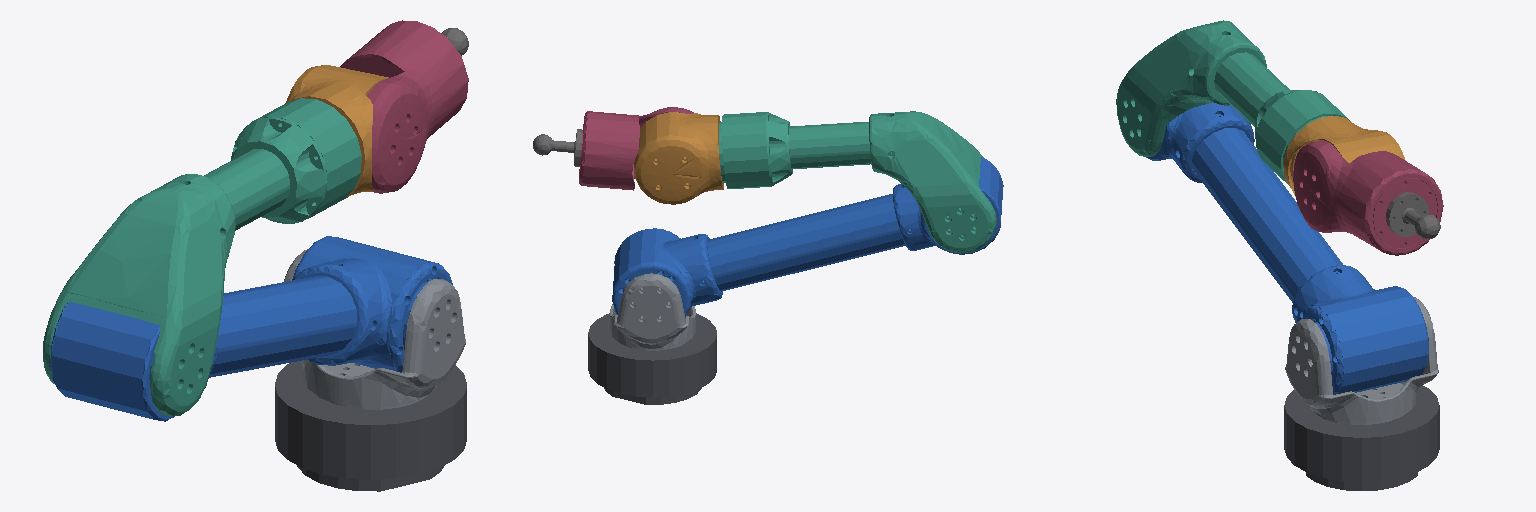
The robot description file, URDF, robot "hw_arm":
<?xml version='1.0' encoding='utf-8'?>
<robot name="hw_arm">
  
  
  
  
  <link name="world">
  </link>
  <joint name="world_joint" type="fixed">
    <origin rpy="3.141592653589793 0.0 0.0" xyz="0.0 0.0 0.03" />
    <parent link="world" />
    <child link="base_link" />
  </joint>
  <link name="base_link">
    <visual name="base_link_visual0">
      <origin rpy="0.0 0.0 0.0" xyz="-0.13454588 0.012391859 0.029617159" />
      <geometry>
        <mesh filename="assets/base_link.stl" scale="0.001 0.001 0.001" />
      </geometry>
      <material name="base_link_visual0_material">
        <color rgba="0.35 0.36 0.38 1.0" />
      </material>
    </visual>
    <collision name="base_link_collision">
      <origin rpy="0.0 0.0 0.0" xyz="-0.13454588 0.012391859 0.029617159" />
      <geometry>
        <mesh filename="assets/base_link.stl" scale="0.001 0.001 0.001" />
      </geometry>
    </collision>
    <inertial>
      <origin rpy="0.0 0.0 0.0" xyz="-3.0284266e-07 -5.2644134e-07 -0.00044772025" />
      <mass value="1.372" />
      <inertia ixx="0.0014043106" ixy="1.4459024e-10" ixz="-8.6054354e-09" iyy="0.0014147065" iyz="-1.5054873e-08" izz="0.0022748573" />
    </inertial>
  </link>
  <joint name="joint1" type="revolute">
    <origin rpy="3.1415927 0.0 0.0" xyz="-0.0011873569 -0.0022000401 -0.0246" />
    <parent link="base_link" />
    <child link="link1" />
    <axis xyz="0.0 0.0 1.0" />
    <limit effort="40.0" lower="-3.141593" upper="3.141593" velocity="16.755" />
  </joint>
  <link name="link1">
    <visual name="link1_visual0">
      <origin rpy="-3.1415927 0.0 0.0" xyz="-0.13335853 -0.014591899 -0.054217159" />
      <geometry>
        <mesh filename="assets/link1.stl" scale="0.001 0.001 0.001" />
      </geometry>
      <material name="link1_visual0_material">
        <color rgba="0.55 0.57 0.6 1.0" />
      </material>
    </visual>
    <collision name="link1_collision">
      <origin rpy="-3.1415927 0.0 0.0" xyz="-0.13335853 -0.014591899 -0.054217159" />
      <geometry>
        <mesh filename="assets/link1.stl" scale="0.001 0.001 0.001" />
      </geometry>
    </collision>
    <inertial>
      <origin rpy="0.0 0.0 0.0" xyz="0.00033850712 -0.0012490216 0.025807643" />
      <mass value="0.097" />
      <inertia ixx="0.0001679022359" ixy="3.991245739e-05" ixz="8.582990606e-07" iyy="0.0001151949678" iyz="-2.909528997e-06" izz="0.0001750320184" />
    </inertial>
  </link>
  <joint name="joint2" type="revolute">
    <origin rpy="-1.5707963 0.0 0.49489913" xyz="-0.016195552 0.030008567 0.053" />
    <parent link="link1" />
    <child link="link2" />
    <axis xyz="0.0 0.0 1.0" />
    <limit effort="40.0" lower="-0.036607" upper="3.138307" velocity="16.755" />
  </joint>
  <link name="link2">
    <visual name="link2_visual0">
      <origin rpy="-1.5707963 0.49489913 0.0" xyz="-0.12428804 0.10721716 0.016396569" />
      <geometry>
        <mesh filename="assets/link2.stl" scale="0.001 0.001 0.001" />
      </geometry>
      <material name="link2_visual0_material">
        <color rgba="0.24 0.45 0.75 1.0" />
      </material>
    </visual>
    <collision name="link2_collision">
      <origin rpy="-1.5707963 0.49489913 0.0" xyz="-0.12428804 0.10721716 0.016396569" />
      <geometry>
        <mesh filename="assets/link2.stl" scale="0.001 0.001 0.001" />
      </geometry>
    </collision>
    <inertial>
      <origin rpy="0.0 0.0 0.0" xyz="-0.11708571 -0.033820001 -0.036677914" />
      <mass value="1.4285" />
      <inertia ixx="0.003288932024" ixy="-0.007548294498" ixz="-0.0004591792632" iyy="0.02724343856" iyz="-0.0001321617115" izz="0.02923142669" />
    </inertial>
  </link>
  <joint name="joint3" type="revolute">
    <origin rpy="-3.1415927 0.0 0.0" xyz="-0.28822853 -0.083212459 -0.0716" />
    <parent link="link2" />
    <child link="link3" />
    <axis xyz="0.0 0.0 1.0" />
    <limit effort="27.0" lower="-0.024407" upper="3.071307" velocity="5.4454" />
  </joint>
  <link name="link3">
    <visual name="link3_visual0">
      <origin rpy="1.5707963 -0.49489913 0.0" xyz="0.16394049 -0.19042962 -0.087996569" />
      <geometry>
        <mesh filename="assets/link3.stl" scale="0.001 0.001 0.001" />
      </geometry>
      <material name="link3_visual0_material">
        <color rgba="0.3 0.62 0.55 1.0" />
      </material>
    </visual>
    <collision name="link3_collision">
      <origin rpy="1.5707963 -0.49489913 0.0" xyz="0.16394049 -0.19042962 -0.087996569" />
      <geometry>
        <mesh filename="assets/link3.stl" scale="0.001 0.001 0.001" />
      </geometry>
    </collision>
    <inertial>
      <origin rpy="0.0 0.0 0.0" xyz="0.14404661 0.046456784 -0.035088571" />
      <mass value="0.4975" />
      <inertia ixx="0.0005181144922" ixy="-0.0004151674602" ixz="-1.560368381e-05" iyy="0.003645252803" iyz="-8.446874159e-06" izz="0.003693332489" />
    </inertial>
  </link>
  <joint name="joint4" type="revolute">
    <origin rpy="1.5707963 -1.4195253 1.4884341" xyz="0.22464921 0.049686746 -0.03495" />
    <parent link="link3" />
    <child link="link4" />
    <axis xyz="0.0 0.0 1.0" />
    <limit effort="7.0" lower="-3.387107" upper="0.561107" velocity="20.944" />
  </joint>
  <link name="link4">
    <visual name="link4_visual0">
      <origin rpy="-1.3987074 -1.0696523 0.0" xyz="-0.089255048 0.23351323 -0.04074877" />
      <geometry>
        <mesh filename="assets/link4.stl" scale="0.001 0.001 0.001" />
      </geometry>
      <material name="link4_visual0_material">
        <color rgba="0.75 0.55 0.3 1.0" />
      </material>
    </visual>
    <collision name="link4_collision">
      <origin rpy="-1.3987074 -1.0696523 0.0" xyz="-0.089255048 0.23351323 -0.04074877" />
      <geometry>
        <mesh filename="assets/link4.stl" scale="0.001 0.001 0.001" />
      </geometry>
    </collision>
    <inertial>
      <origin rpy="0.0 0.0 0.0" xyz="-0.0055965314 -0.00063853617 0.042215121" />
      <mass value="0.3571" />
      <inertia ixx="0.0002329998272" ixy="1.938171286e-06" ixz="8.517698391e-06" iyy="0.0002165811396" iyz="-3.434623926e-07" izz="0.000190847587" />
    </inertial>
  </link>
  <joint name="joint5" type="revolute">
    <origin rpy="-1.5707964 -1.5136313 -1.4661356" xyz="0.018896033 0.0019849256 0.045" />
    <parent link="link4" />
    <child link="link5" />
    <axis xyz="0.0 0.0 1.0" />
    <limit effort="7.0" lower="-1.238607" upper="1.224507" velocity="20.944" />
  </joint>
  <link name="link5">
    <visual name="link5_visual0">
      <origin rpy="1.6236805 -0.49814903 0.0" xyz="-0.099409962 -0.23626617 -0.083371577" />
      <geometry>
        <mesh filename="assets/link5.stl" scale="0.001 0.001 0.001" />
      </geometry>
      <material name="link5_visual0_material">
        <color rgba="0.62 0.32 0.42 1.0" />
      </material>
    </visual>
    <collision name="link5_collision">
      <origin rpy="1.6236805 -0.49814903 0.0" xyz="-0.099409962 -0.23626617 -0.083371577" />
      <geometry>
        <mesh filename="assets/link5.stl" scale="0.001 0.001 0.001" />
      </geometry>
    </collision>
    <inertial>
      <origin rpy="0.0 0.0 0.0" xyz="0.054079648 0.0061104584 -0.017313589" />
      <mass value="0.3602" />
      <inertia ixx="0.0002058293433" ixy="-1.494691709e-05" ixz="7.185391275e-05" iyy="0.0003338820406" iyz="8.196865786e-06" izz="0.0003123136184" />
    </inertial>
  </link>
  <joint name="joint6" type="revolute">
    <origin rpy="-1.5707963 -1.366829 -1.458055" xyz="0.085454023 0.009675227 -0.021" />
    <parent link="link5" />
    <child link="link6" />
    <axis xyz="0.0 0.0 1.0" />
    <limit effort="7.0" lower="-6.283185" upper="6.283185" velocity="20.944" />
  </joint>
  <link name="link6">
    <visual name="link6_visual0">
      <origin rpy="-1.7505844 -1.0610974 0.0" xyz="-0.015790705 0.23158136 -0.21135942" />
      <geometry>
        <mesh filename="assets/link6.stl" scale="0.001 0.001 0.001" />
      </geometry>
      <material name="link6_visual0_material">
        <color rgba="0.45 0.45 0.45 1.0" />
      </material>
    </visual>
    <collision name="link6_collision">
      <origin rpy="-1.7505844 -1.0610974 0.0" xyz="-0.015790705 0.23158136 -0.21135942" />
      <geometry>
        <mesh filename="assets/link6.stl" scale="0.001 0.001 0.001" />
      </geometry>
    </collision>
    <inertial>
      <origin rpy="0.0 0.0 0.0" xyz="-6.6409394e-08 1.3101879e-08 0.017061868" />
      <mass value="0.011" />
      <inertia ixx="3.0247522e-06" ixy="4.2809957e-10" ixz="3.5790682e-11" iyy="3.0266576e-06" iyz="-7.8809261e-12" izz="9.1440425e-07" />
    </inertial>
  </link>
  <joint name="tool0_joint" type="fixed">
    <origin rpy="0.0 0.0 0.0" xyz="0.0 0.0 0.0" />
    <parent link="link6" />
    <child link="tool0" />
  </joint>
  <link name="tool0">
  </link>
  <ros2_control name="hw_arm_hardware_interface" type="system">
    <hardware>
      <plugin>mock_components/GenericSystem</plugin>
      <param name="fake_sensor_commands">false</param>
      <param name="state_following_offset">0.0</param>
    </hardware>
    <joint name="joint1">
      <command_interface name="position" />
      <command_interface name="velocity" />
      <command_interface name="effort" />
      <state_interface name="position">
        <param name="initial_value">0.0</param>
      </state_interface>
      <state_interface name="velocity">
        <param name="initial_value">0.0</param>
      </state_interface>
      <state_interface name="effort">
        <param name="initial_value">0.0</param>
      </state_interface>
    </joint>
    <joint name="joint2">
      <command_interface name="position" />
      <command_interface name="velocity" />
      <command_interface name="effort" />
      <state_interface name="position">
        <param name="initial_value">0.0</param>
      </state_interface>
      <state_interface name="velocity">
        <param name="initial_value">0.0</param>
      </state_interface>
      <state_interface name="effort">
        <param name="initial_value">0.0</param>
      </state_interface>
    </joint>
    <joint name="joint3">
      <command_interface name="position" />
      <command_interface name="velocity" />
      <command_interface name="effort" />
      <state_interface name="position">
        <param name="initial_value">0.0</param>
      </state_interface>
      <state_interface name="velocity">
        <param name="initial_value">0.0</param>
      </state_interface>
      <state_interface name="effort">
        <param name="initial_value">0.0</param>
      </state_interface>
    </joint>
    <joint name="joint4">
      <command_interface name="position" />
      <command_interface name="velocity" />
      <command_interface name="effort" />
      <state_interface name="position">
        <param name="initial_value">0.0</param>
      </state_interface>
      <state_interface name="velocity">
        <param name="initial_value">0.0</param>
      </state_interface>
      <state_interface name="effort">
        <param name="initial_value">0.0</param>
      </state_interface>
    </joint>
    <joint name="joint5">
      <command_interface name="position" />
      <command_interface name="velocity" />
      <command_interface name="effort" />
      <state_interface name="position">
        <param name="initial_value">0.0</param>
      </state_interface>
      <state_interface name="velocity">
        <param name="initial_value">0.0</param>
      </state_interface>
      <state_interface name="effort">
        <param name="initial_value">0.0</param>
      </state_interface>
    </joint>
    <joint name="joint6">
      <command_interface name="position" />
      <command_interface name="velocity" />
      <command_interface name="effort" />
      <state_interface name="position">
        <param name="initial_value">0.0</param>
      </state_interface>
      <state_interface name="velocity">
        <param name="initial_value">0.0</param>
      </state_interface>
      <state_interface name="effort">
        <param name="initial_value">0.0</param>
      </state_interface>
    </joint>
  </ros2_control>
</robot>

--- Render facts (derived) ---
Views: 3 orthographic renders of the robot side by side, from view 1: azimuth 30°, elevation 25°; view 2: azimuth 150°, elevation 25°; view 3: azimuth 270°, elevation 25°.
Robot: hw_arm — 9 links, 8 joints (6 revolute, 2 fixed); root link world; default pose: all joints at 0.
Visible links, largest first — view 1: link3, link2, base_link, link5, link1, link4; view 2: link3, link2, base_link, link4, link1, link5, link6; view 3: link2, link3, base_link, link5, link1, link4, link6.
Link boxes in pixels (left/top/right/bottom): link3: left=43, top=98, right=361, bottom=415; link2: left=50, top=236, right=452, bottom=421; base_link: left=275, top=361, right=466, bottom=491; link5: left=340, top=20, right=468, bottom=193; link1: left=284, top=249, right=465, bottom=409; link4: left=285, top=65, right=388, bottom=198; link3: left=719, top=111, right=996, bottom=252; link2: left=612, top=157, right=1003, bottom=316; base_link: left=588, top=313, right=716, bottom=404; link4: left=634, top=112, right=723, bottom=204; link1: left=610, top=273, right=695, bottom=350; link5: left=579, top=107, right=693, bottom=190; link6: left=533, top=129, right=581, bottom=166; link2: left=1146, top=103, right=1428, bottom=394; link3: left=1116, top=20, right=1349, bottom=183; base_link: left=1284, top=385, right=1439, bottom=490; link5: left=1293, top=140, right=1443, bottom=255; link1: left=1285, top=297, right=1438, bottom=424; link4: left=1283, top=116, right=1405, bottom=196; link6: left=1386, top=192, right=1440, bottom=239.
Bounding box of the posed robot: 0.4002 × 0.2532 × 0.2793 m (x, y, z).
7 mesh visuals loaded from 7 distinct referenced files (7 binary STL).
